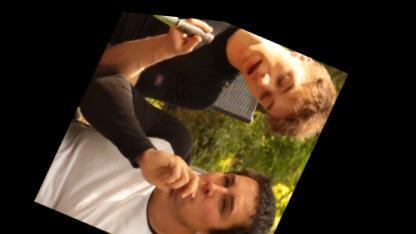knife: (129, 10, 225, 56)
